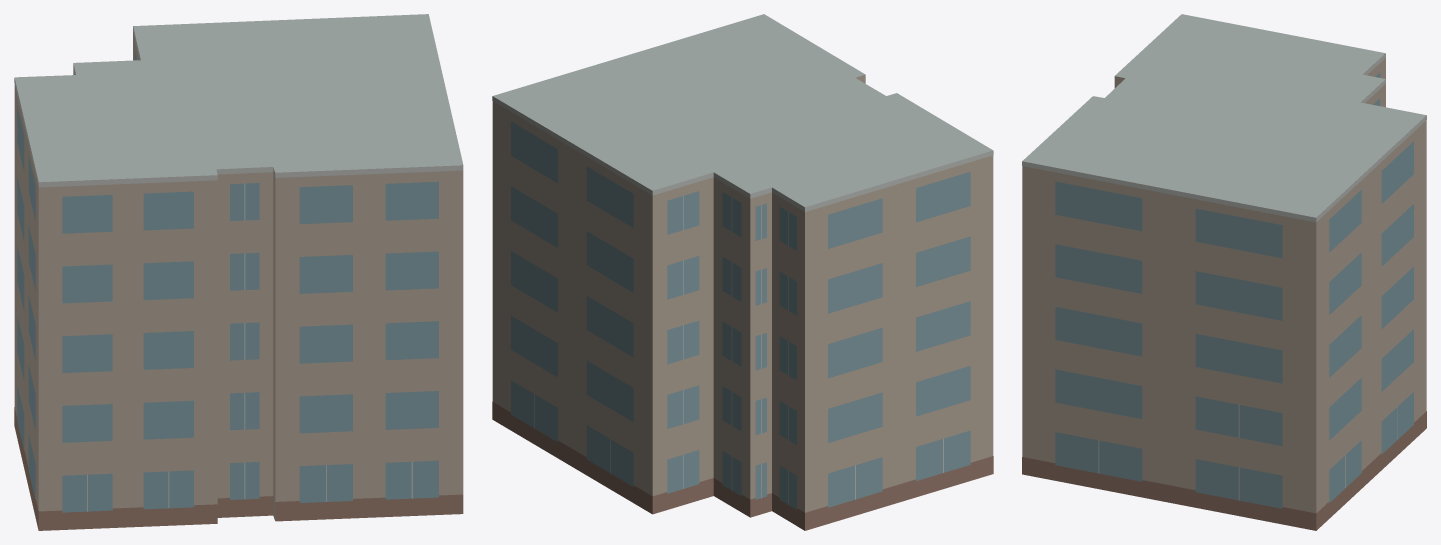
File: survey-upis-32926717.glb
The picture shows the model from 3 angles, left to right: view 1: azimuth 30°, elevation 25°; view 2: azimuth 150°, elevation 25°; view 3: azimuth 270°, elevation 25°; orthographic projection. The views are drawn at different scales.
Visible parts, largest first — view 1: survey-upis-32926717.tmp; view 2: survey-upis-32926717.tmp; view 3: survey-upis-32926717.tmp.
Boxes of the visible parts, bbox=[...] form: survey-upis-32926717.tmp: bbox=[14, 14, 463, 530]; survey-upis-32926717.tmp: bbox=[492, 14, 993, 530]; survey-upis-32926717.tmp: bbox=[1022, 14, 1426, 530].
Size of the model in its own units: 22.9 by 16.4 by 19.22.
